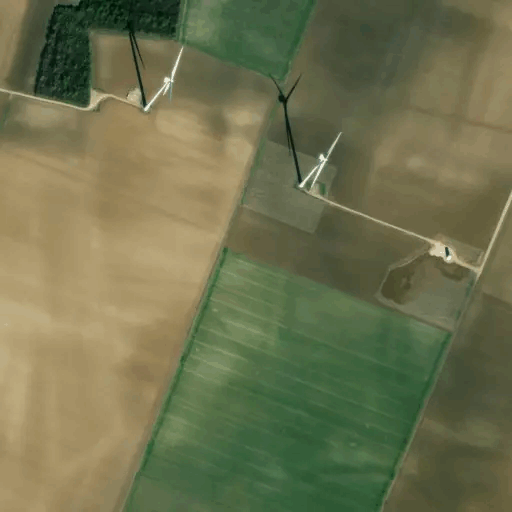wt: (267, 69, 344, 208), (117, 7, 188, 118)
